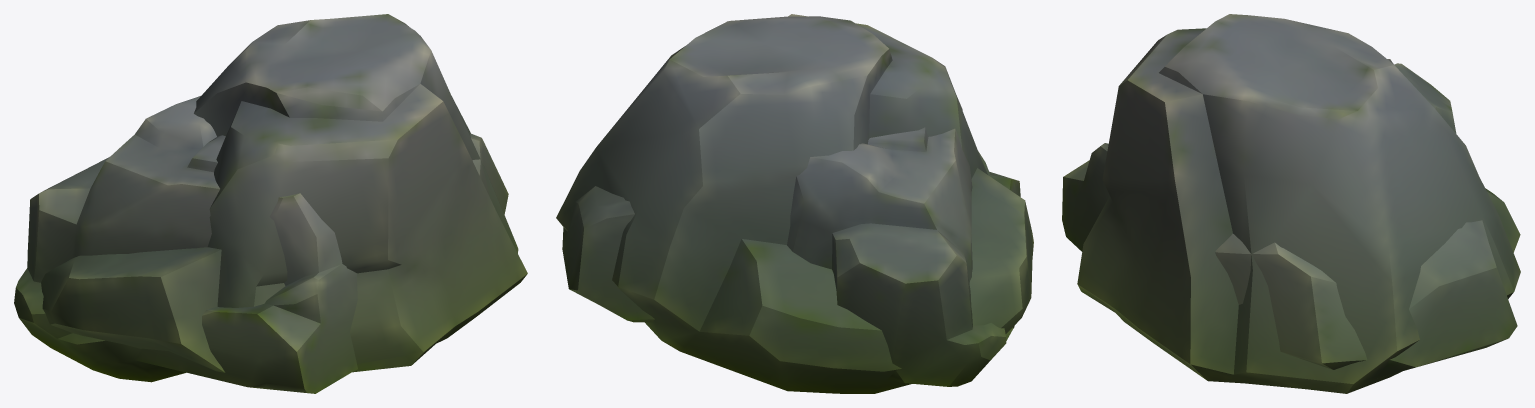
The model's file is den.glb.
3 renders of one model, left to right at view 1: azimuth 30°, elevation 25°; view 2: azimuth 150°, elevation 25°; view 3: azimuth 270°, elevation 25°, orthographic. The views are drawn at different scales.
Visible parts, largest first — view 1: Rock_Medium_1, Rock_Medium_3, Rock_Medium_2; view 2: Rock_Medium_1, Rock_Medium_3, Rock_Medium_2; view 3: Rock_Medium_1, Rock_Medium_2, Rock_Medium_3.
Part boxes in pixels (x1,y1,x2,y2): Rock_Medium_1: (41,14,527,372); Rock_Medium_3: (14,96,357,393); Rock_Medium_2: (470,133,508,214); Rock_Medium_1: (556,14,1033,393); Rock_Medium_3: (787,95,1020,386); Rock_Medium_2: (562,186,654,322); Rock_Medium_1: (1077,14,1520,393); Rock_Medium_2: (1215,220,1517,378); Rock_Medium_3: (1062,59,1456,251).
Size of the model in its own units: 2.33 by 1.35 by 1.92.
6 materials, 4 textured.
